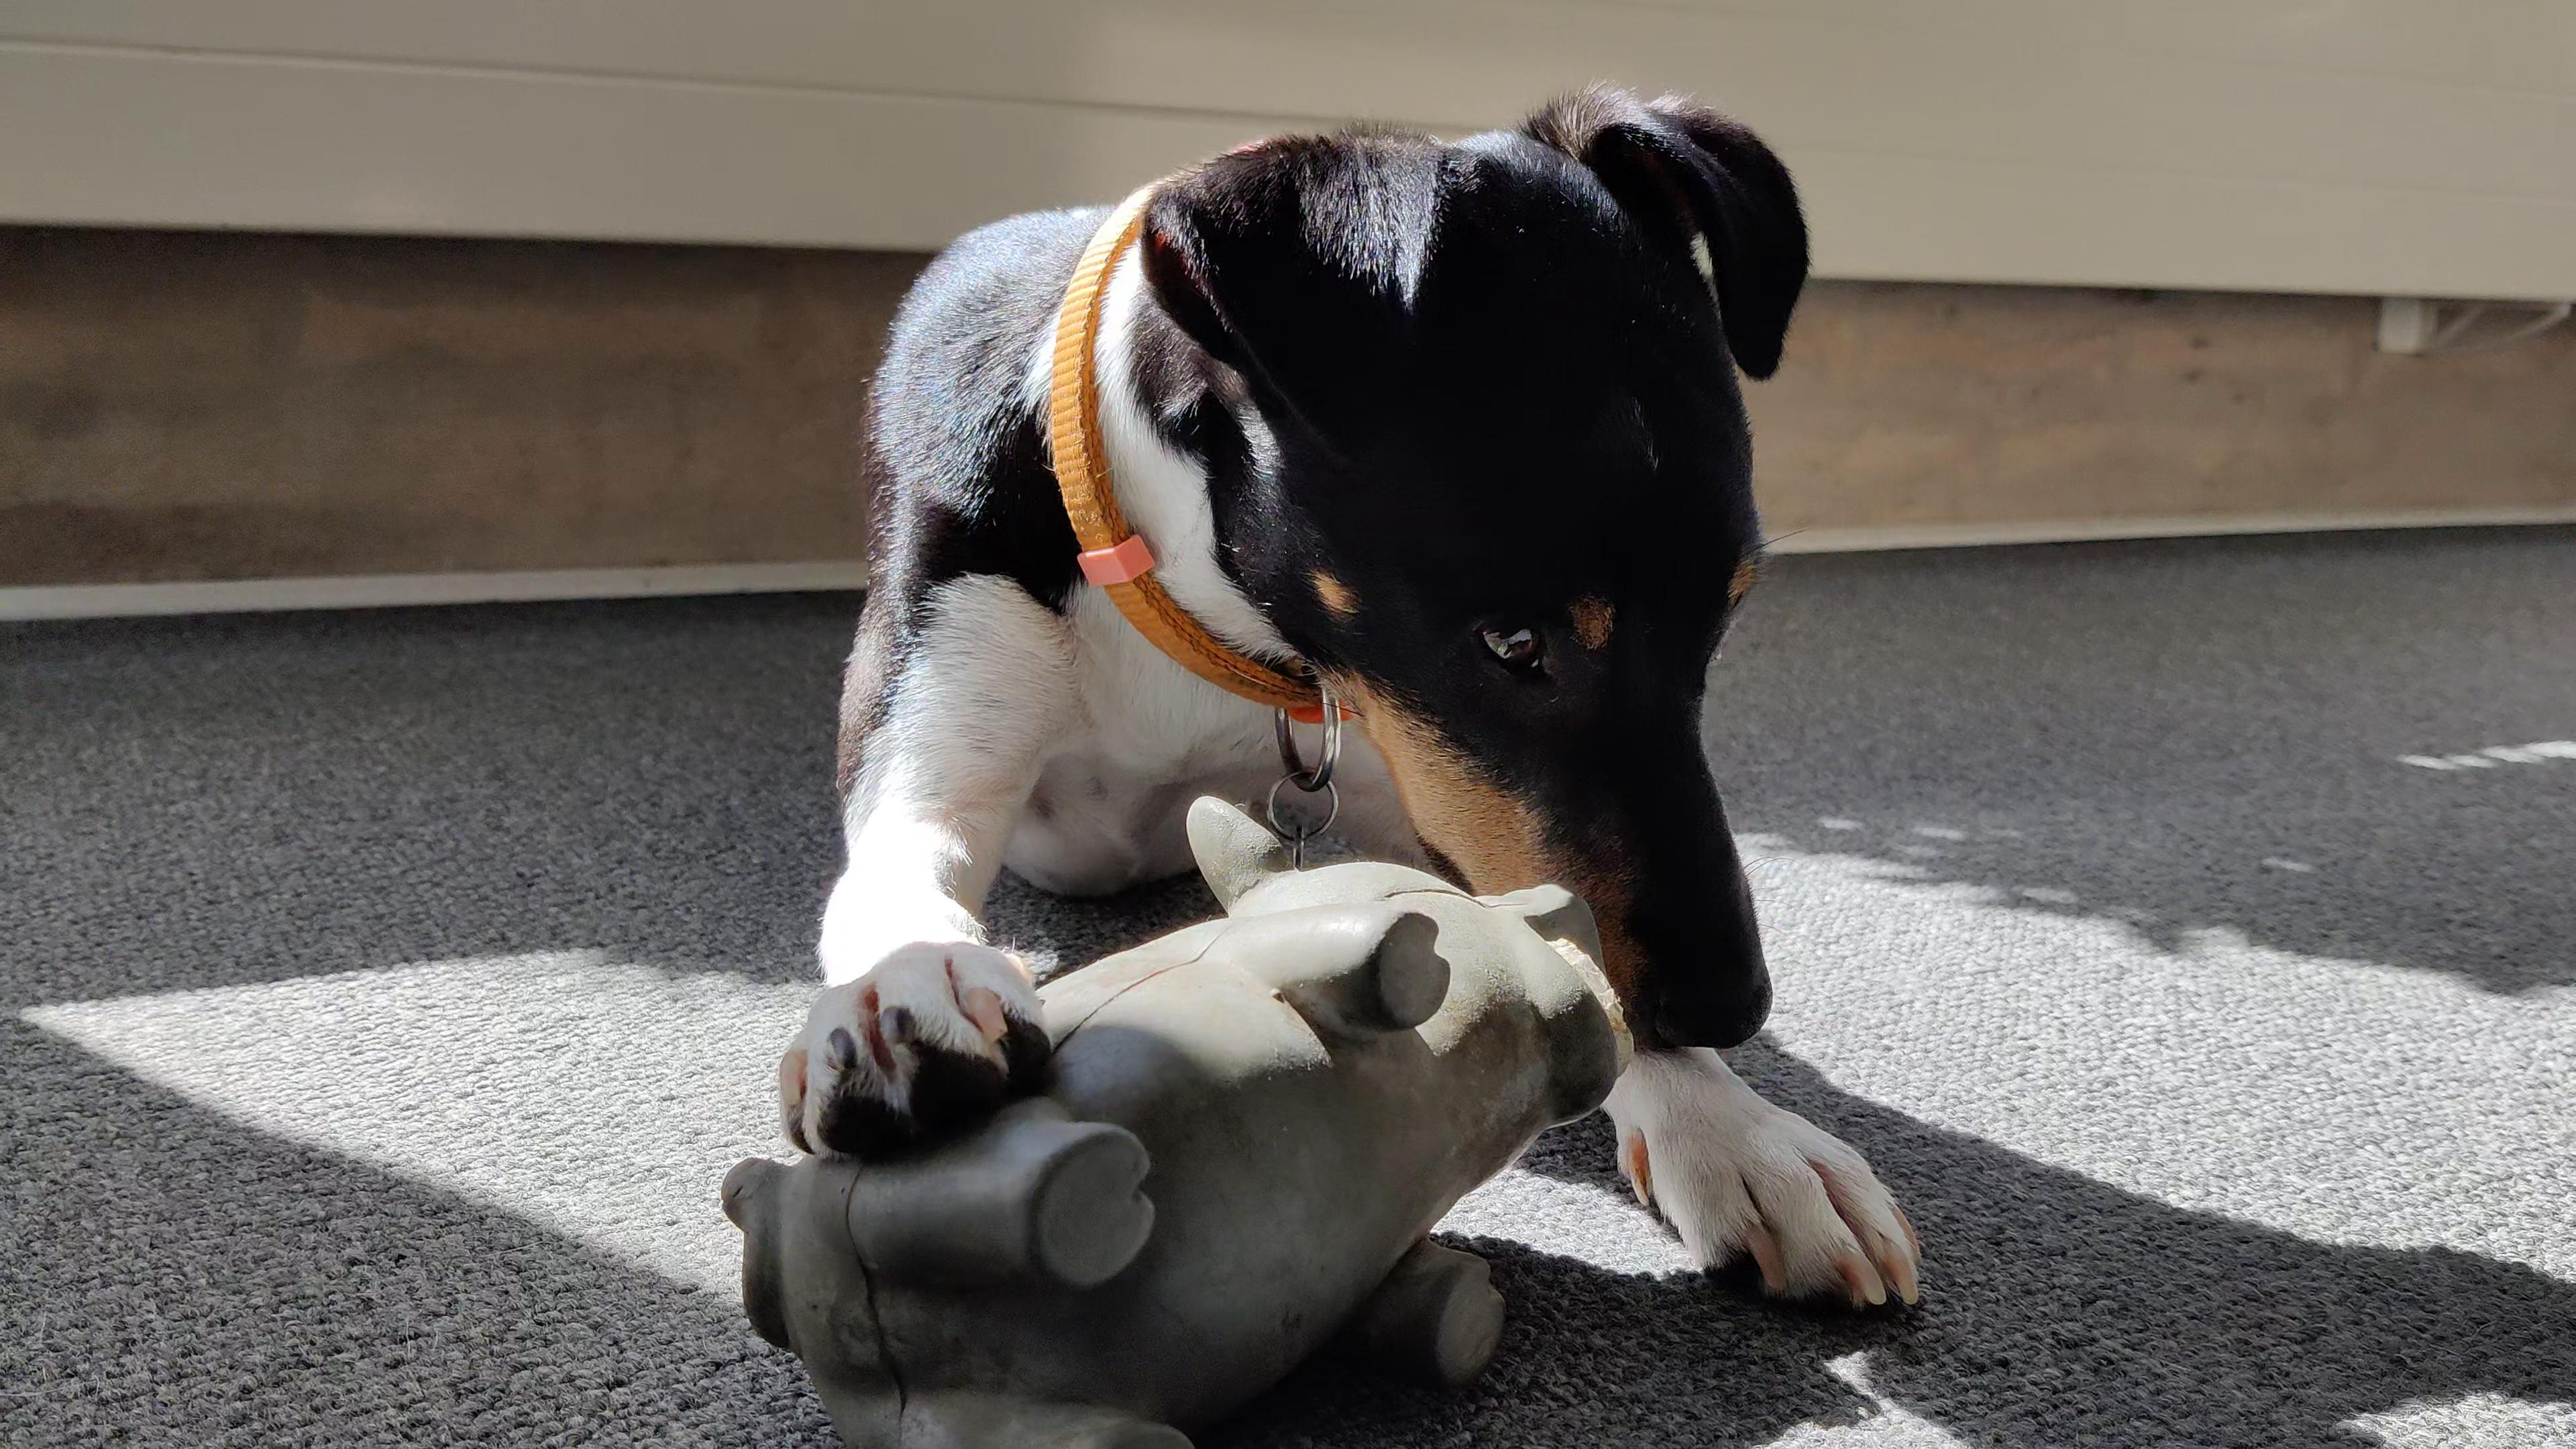Dog: (757, 71, 1948, 1327)
